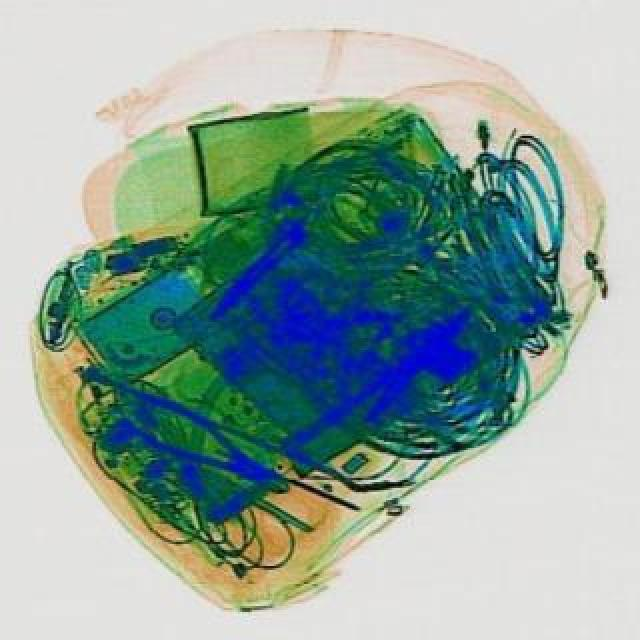wrench: (116, 384, 298, 508)
